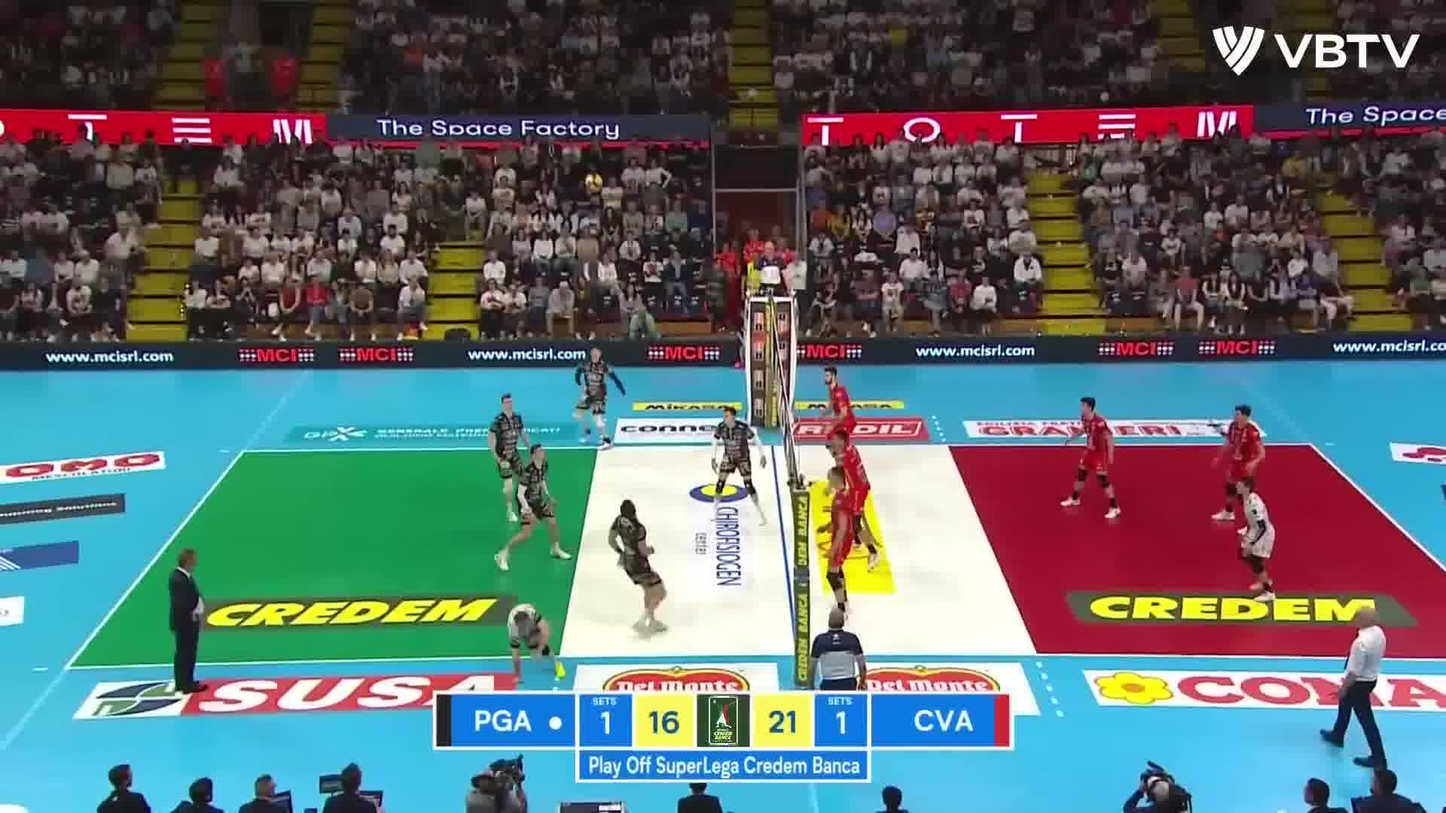balls: (583, 170, 607, 195)
